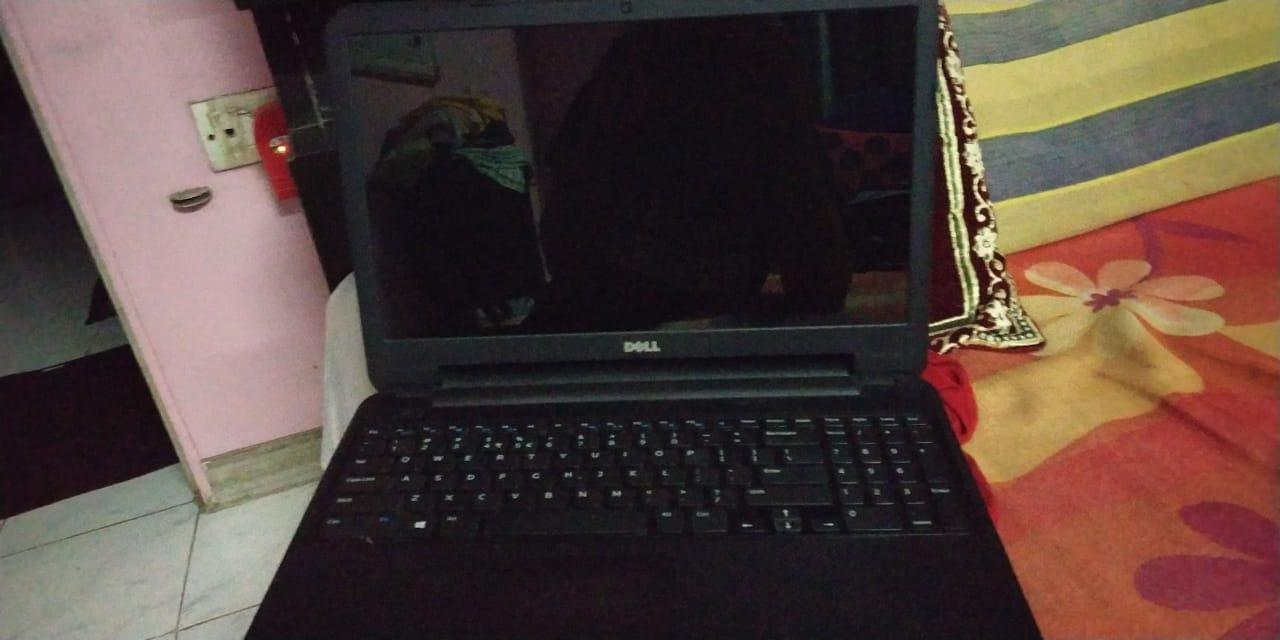laptop: (230, 1, 1050, 640)
